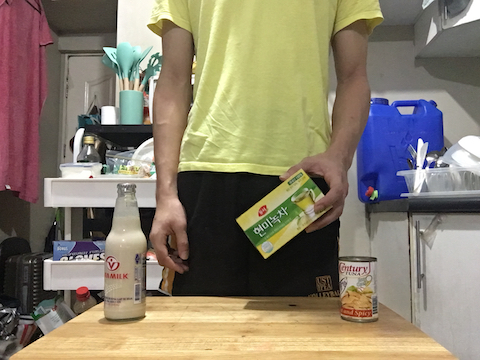bottle: (98, 180, 155, 325)
box: (236, 166, 334, 266)
can: (338, 252, 382, 325)
grab: (276, 153, 350, 238)
